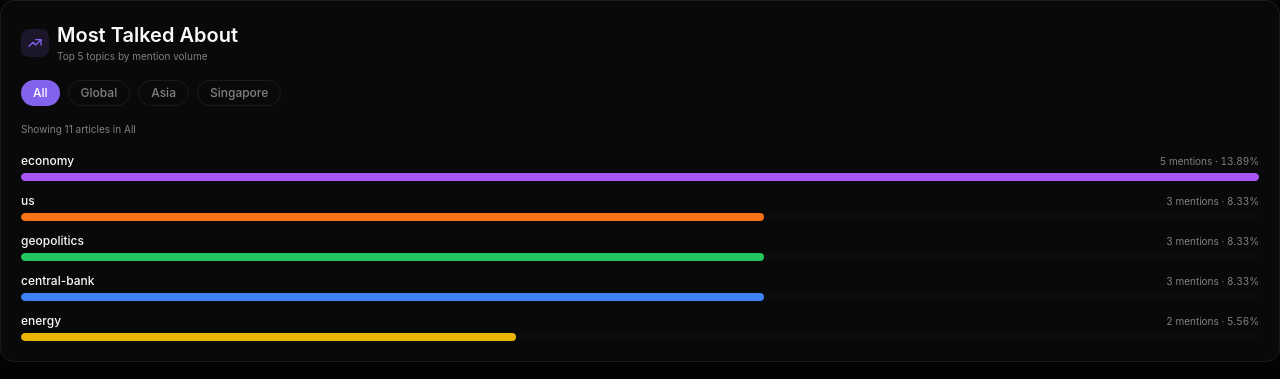
Test: MostTalkedAbout › updates when Singapore region is selected
Check: the text "Showing 11 articles in All" is shown, box 21,123 -> 136,135
Click the button "Singapore" at (239, 93), box 197,80 -> 281,106
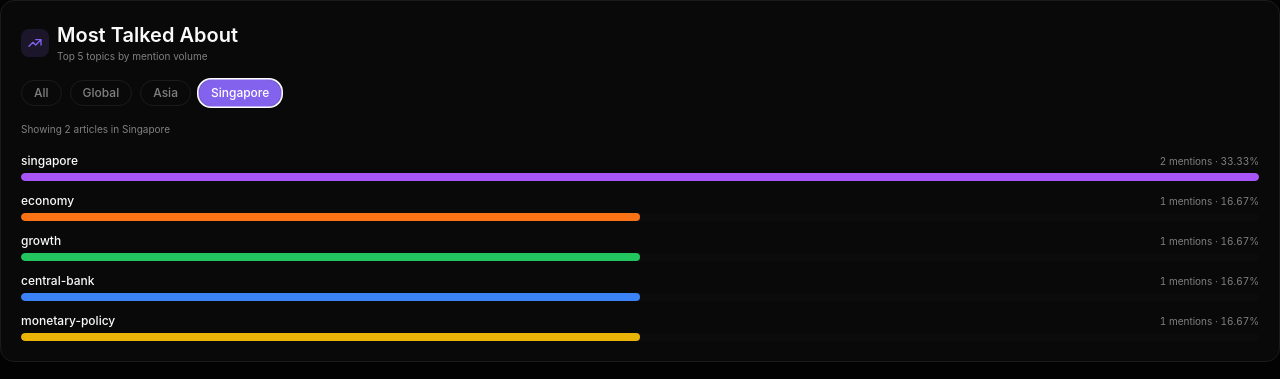
Check: the text "Showing 2 articles in Singapore" is shown, box 21,123 -> 170,135
